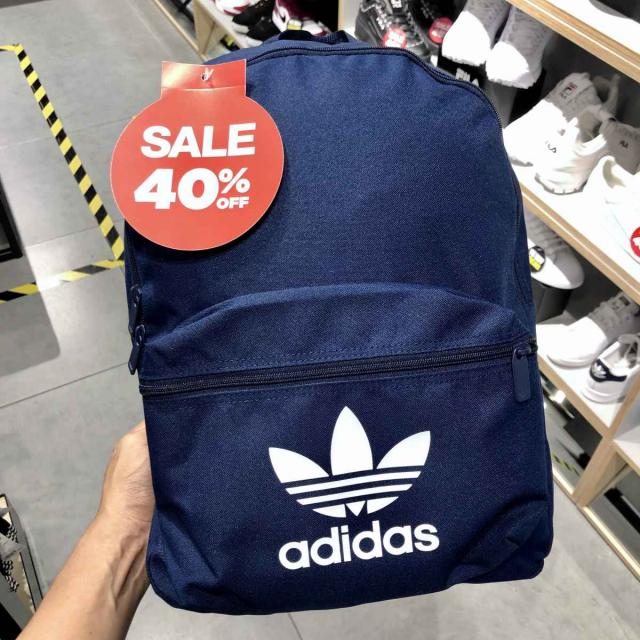handbag: (125, 35, 555, 620)
